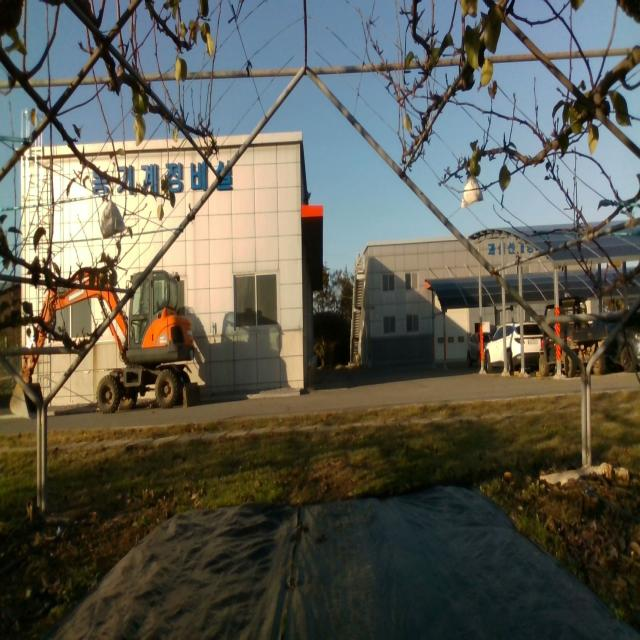pearbags: (102, 198, 125, 238), (461, 176, 484, 208)
